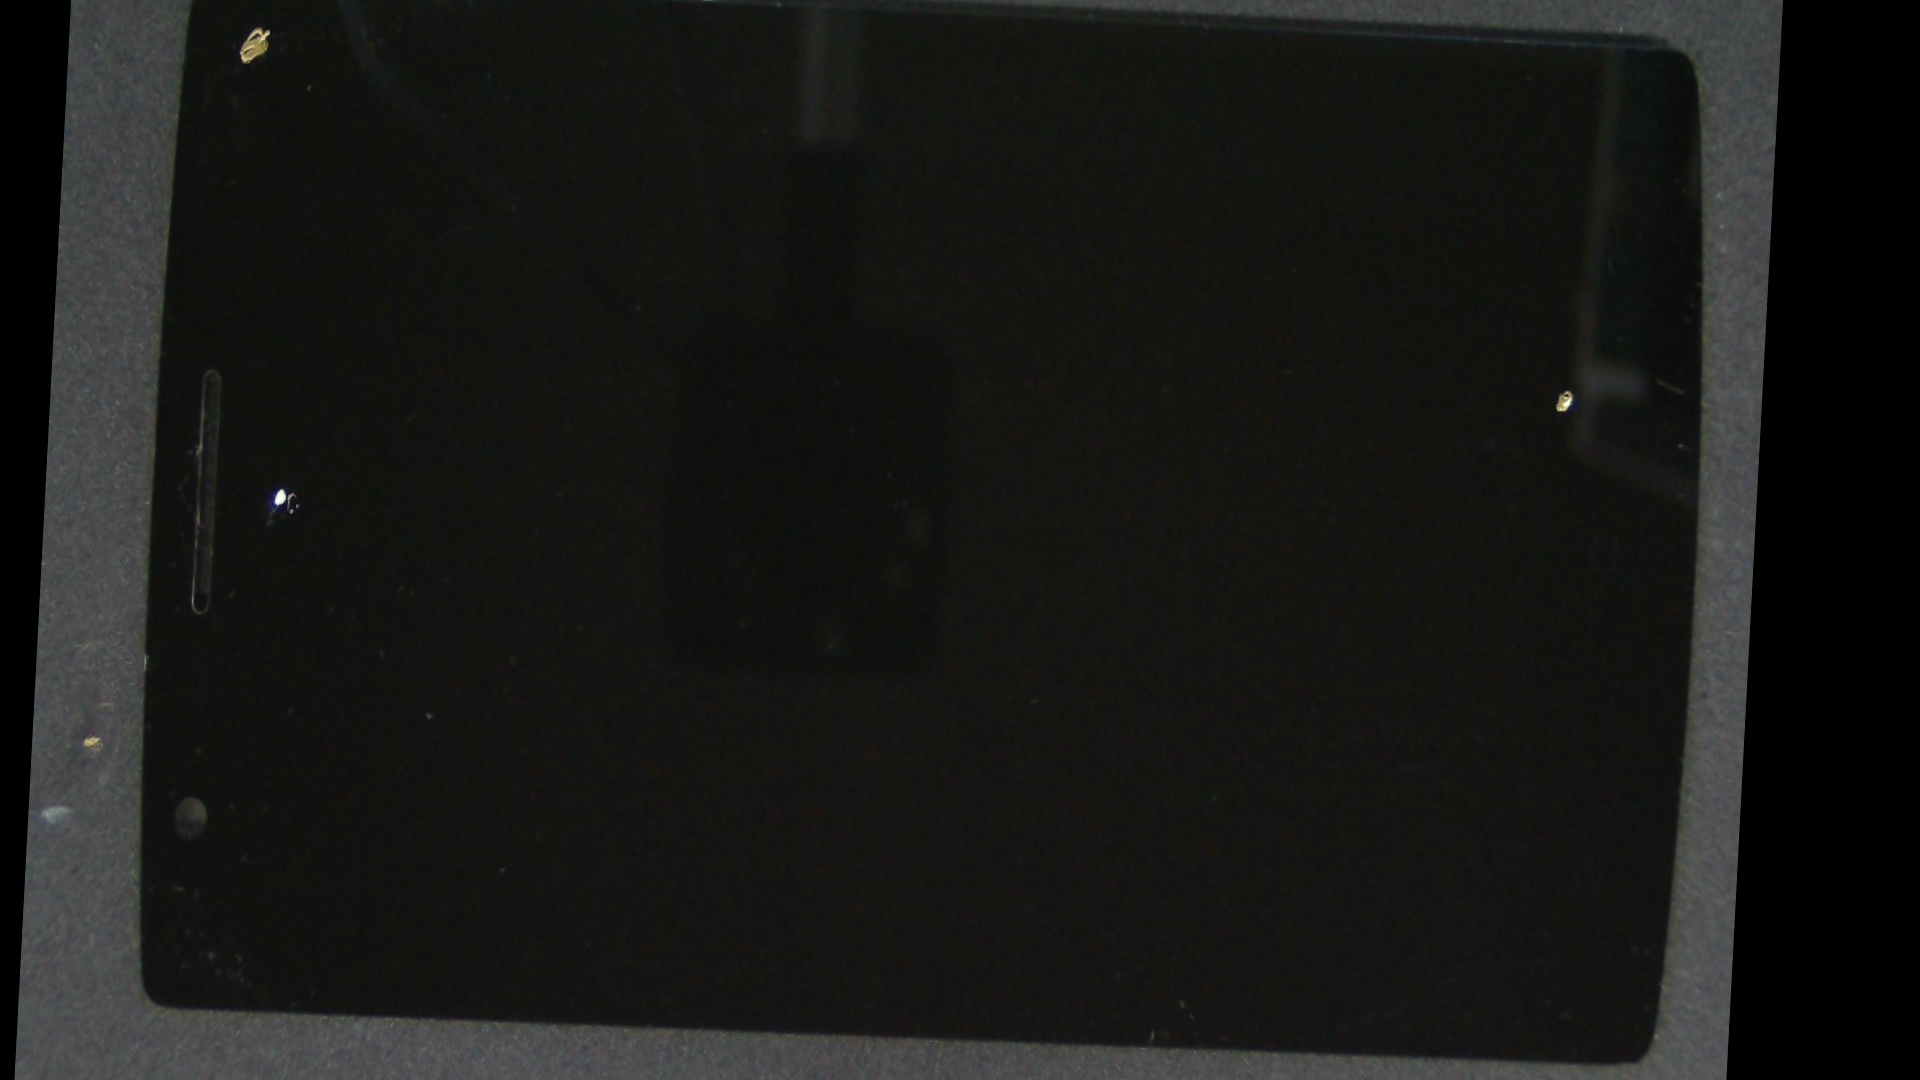oil: (798, 98, 1775, 650), (146, 146, 411, 828), (161, 0, 363, 135)
